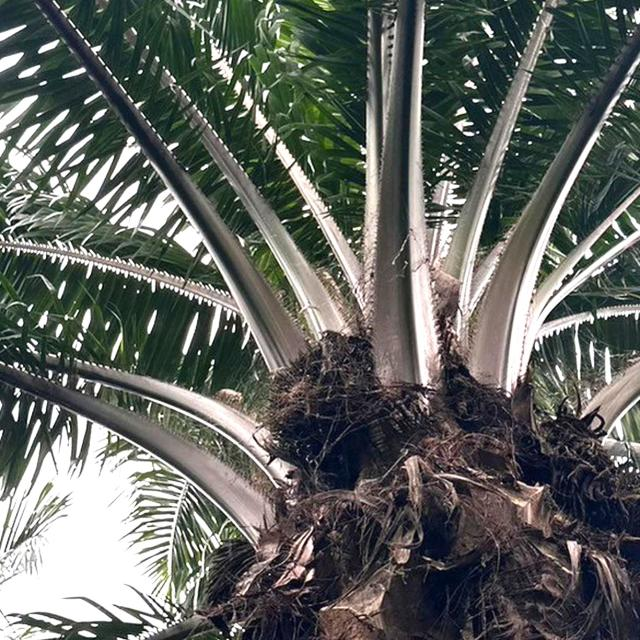unripe: (239, 318, 391, 480)
